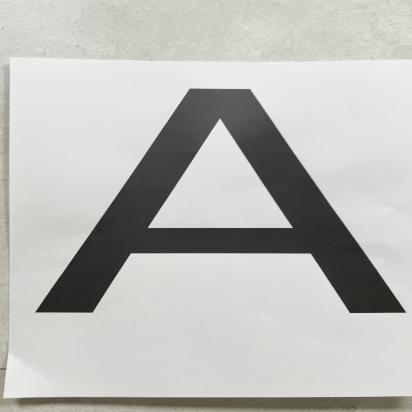seat: (28, 68, 412, 343), (32, 79, 412, 325)
